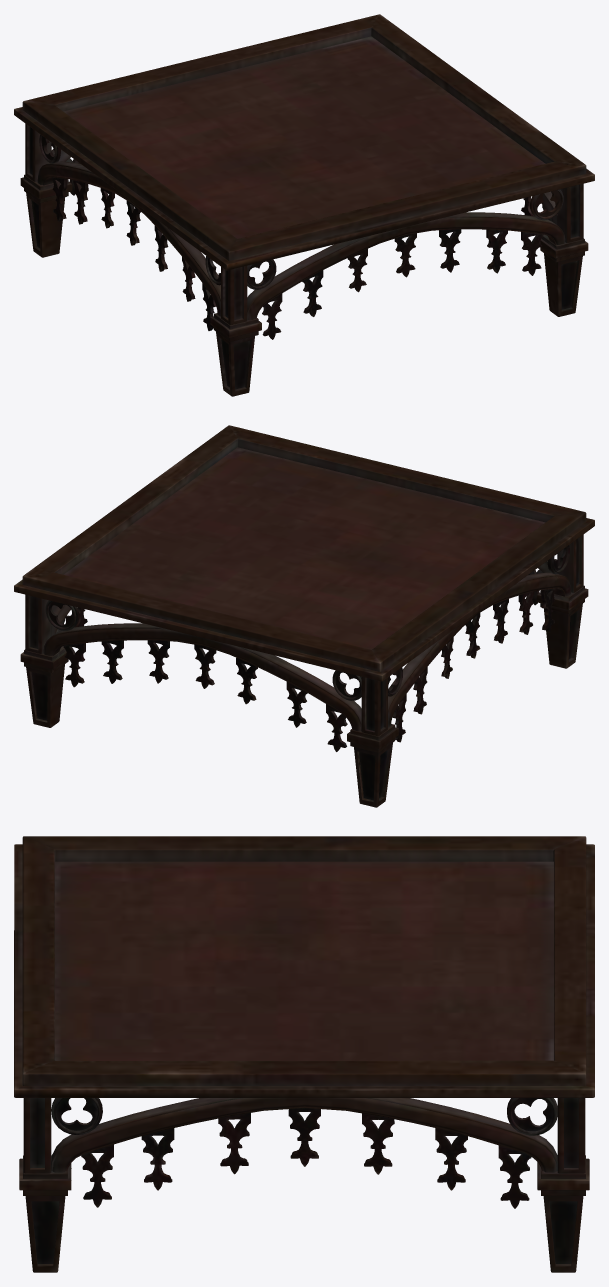
File: coffee-table-gothic.92c3874f.glb
3 views of the same model, one above another, from view 1: azimuth 30°, elevation 25°; view 2: azimuth 150°, elevation 25°; view 3: azimuth 270°, elevation 25° (orthographic). The views are drawn at different scales.
Parts seen in each view (by area): view 1: model; view 2: model; view 3: model.
Part boxes in pixels (bbox=[...]): model: bbox=[14, 14, 594, 396]; model: bbox=[14, 425, 594, 807]; model: bbox=[14, 836, 594, 1272].
Bounding box in the file's own units: 1.44 × 0.5588 × 1.44.
1 material, 1 textured.
